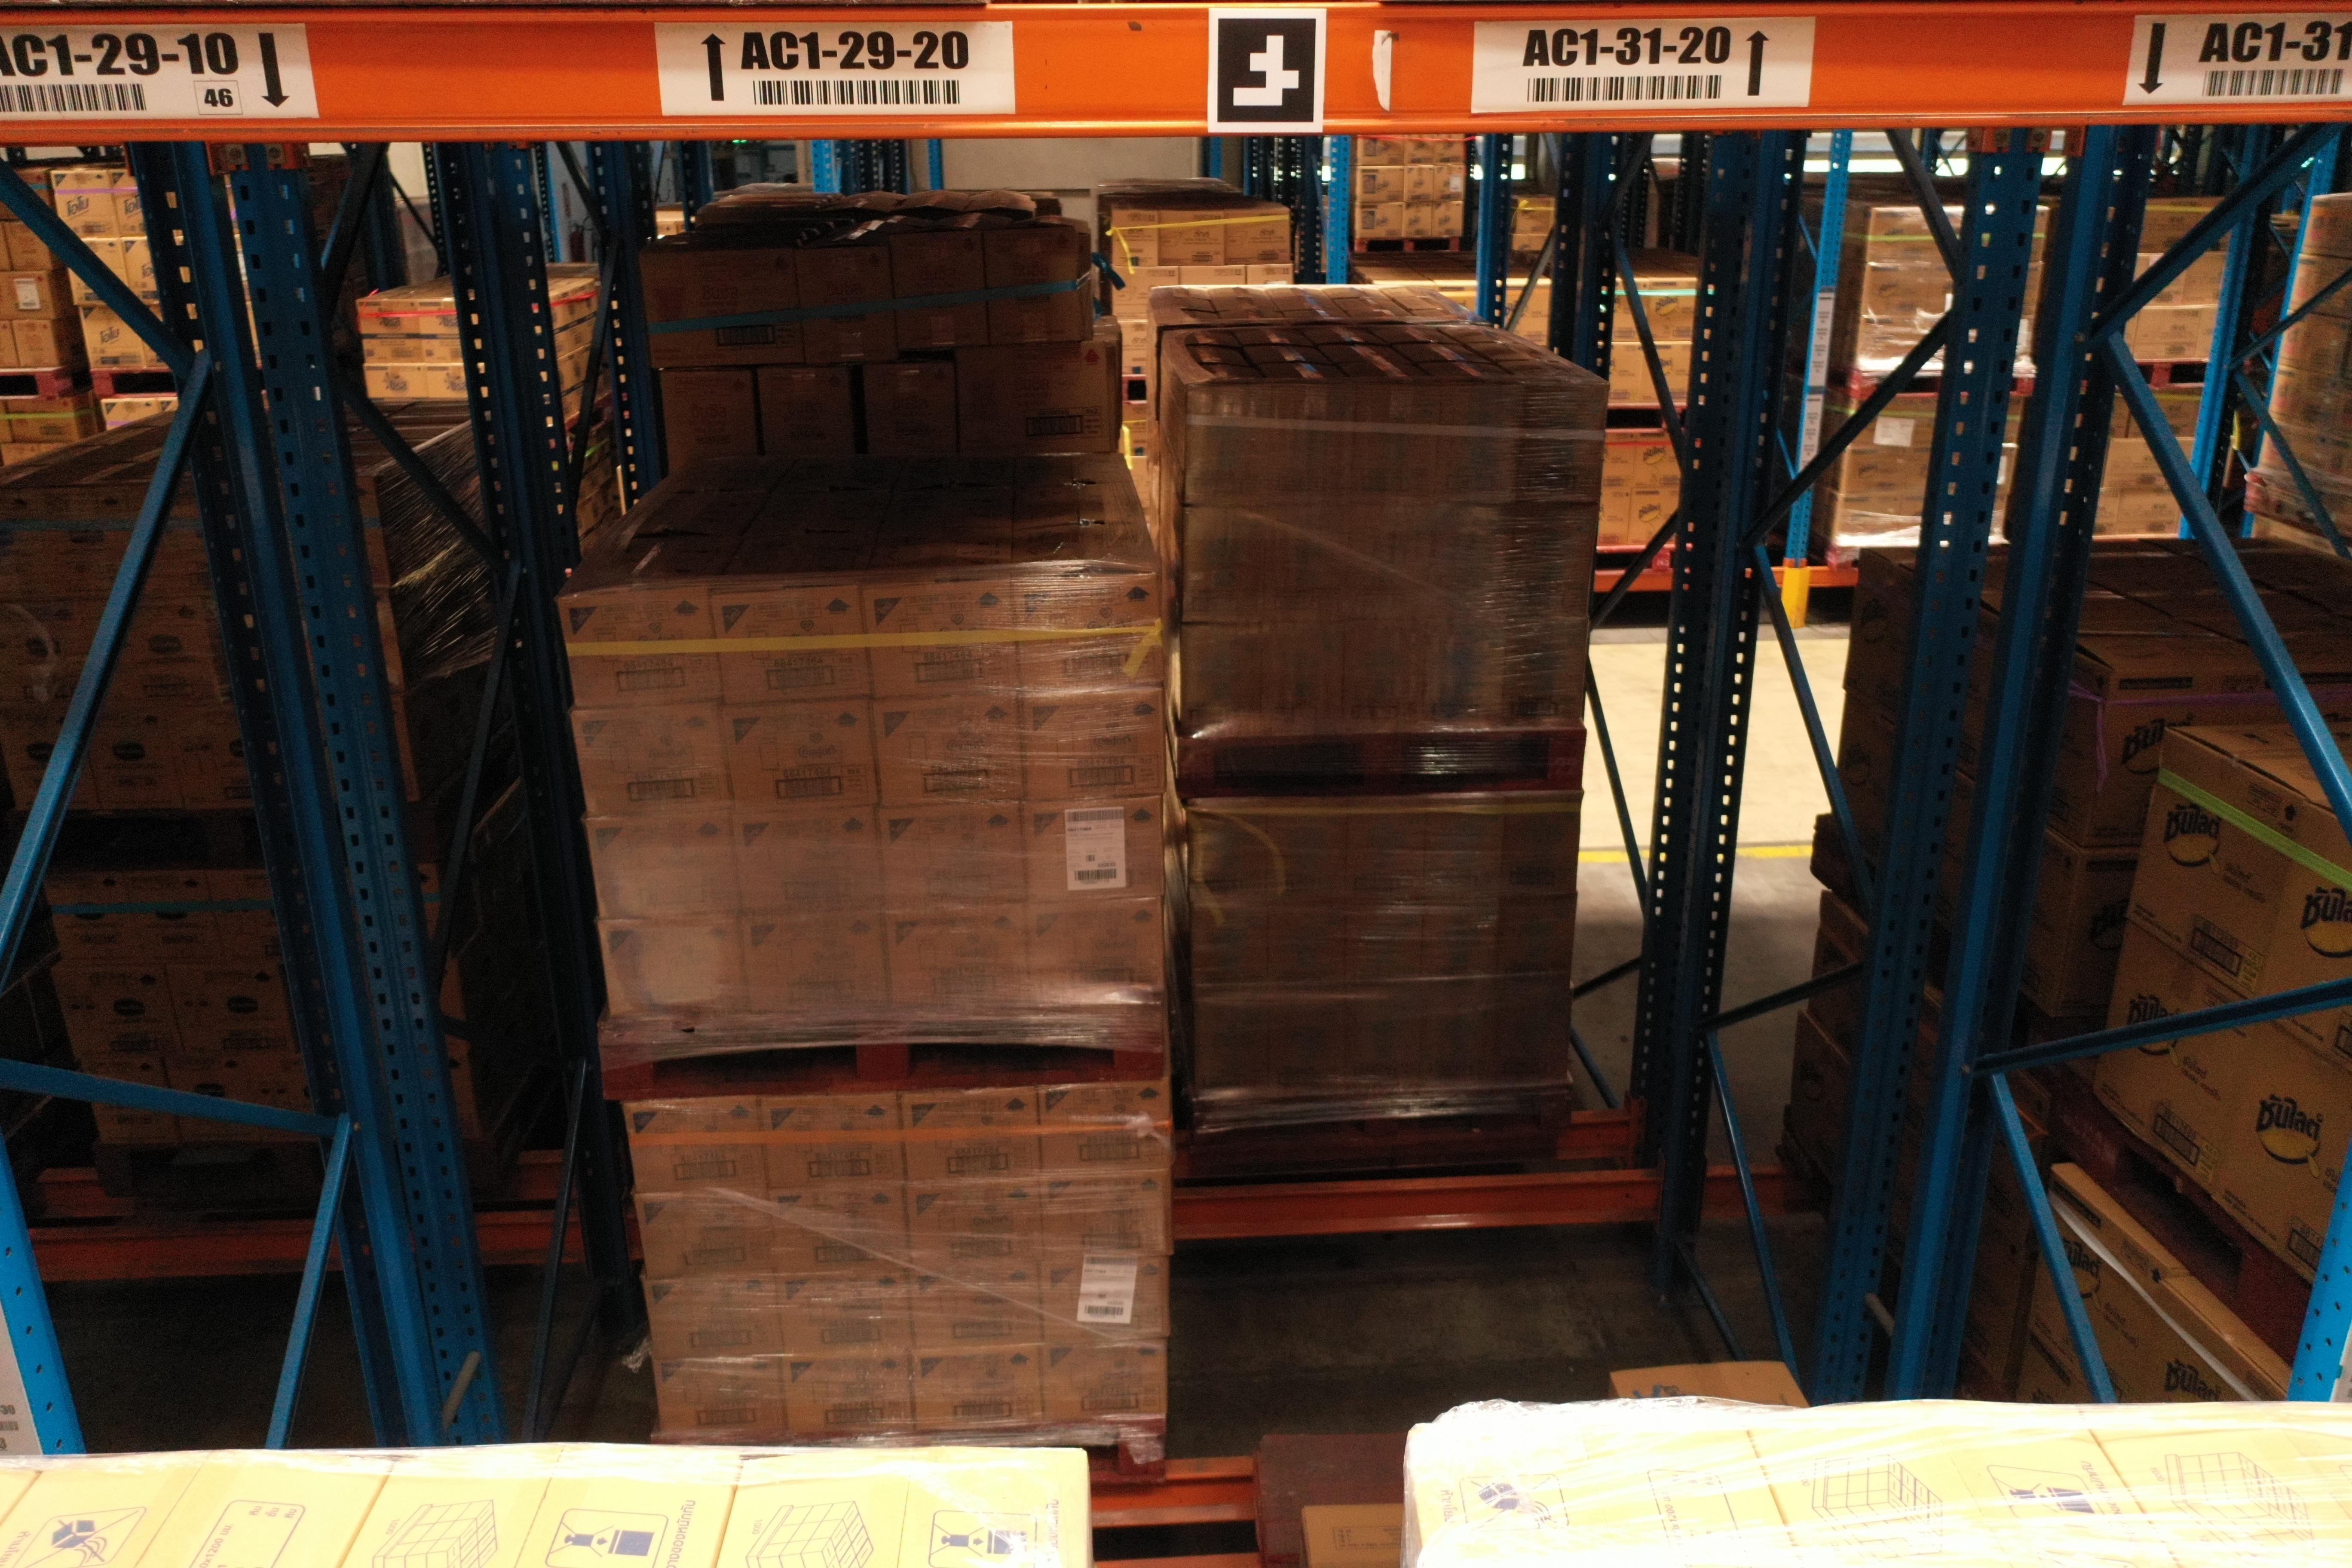2: (637, 248, 808, 367), (959, 343, 1120, 455), (82, 595, 220, 703), (56, 966, 187, 1060), (985, 233, 1094, 346), (166, 962, 296, 1057), (892, 229, 990, 350), (1349, 381, 1442, 507), (1183, 385, 1276, 509), (1433, 381, 1526, 506), (0, 602, 101, 714), (1270, 381, 1360, 507), (40, 486, 138, 600), (801, 245, 898, 360), (1517, 383, 1610, 502), (82, 703, 184, 810), (1428, 502, 1517, 623), (1263, 504, 1351, 626), (661, 364, 761, 471), (1346, 504, 1435, 623), (121, 486, 215, 598), (0, 709, 101, 810), (1183, 506, 1267, 625), (1514, 504, 1598, 623), (761, 364, 868, 457), (44, 875, 143, 968), (126, 870, 224, 962), (168, 703, 255, 807), (1269, 794, 1349, 906), (1346, 794, 1426, 905), (1260, 623, 1346, 726), (1188, 798, 1269, 906), (868, 362, 959, 457), (1181, 625, 1262, 731), (163, 1057, 261, 1144), (1426, 793, 1505, 901), (1498, 793, 1580, 896), (1503, 623, 1589, 719), (1424, 621, 1508, 719), (1344, 625, 1426, 724), (82, 1060, 178, 1144), (1498, 896, 1577, 996), (1344, 905, 1424, 999), (1192, 905, 1270, 1001), (1267, 906, 1346, 1003), (1421, 901, 1500, 996), (206, 870, 285, 962), (1195, 1001, 1269, 1099), (1494, 990, 1573, 1081), (1344, 996, 1421, 1087), (1269, 1001, 1344, 1092), (1419, 999, 1498, 1085), (0, 485, 56, 602), (240, 1055, 318, 1137)
box: (560, 584, 724, 710), (572, 702, 735, 821), (710, 584, 873, 702), (724, 700, 880, 821), (864, 581, 1022, 698), (870, 696, 1025, 808), (586, 810, 742, 922), (1020, 684, 1165, 803), (1015, 576, 1162, 693), (740, 910, 894, 1020), (884, 903, 1034, 1015), (875, 801, 1029, 908), (598, 913, 752, 1018), (733, 812, 882, 919), (1024, 796, 1164, 905), (1029, 899, 1164, 1006), (626, 1095, 770, 1195), (898, 1090, 1043, 1188), (761, 1095, 906, 1192), (905, 1183, 1046, 1274), (770, 1186, 908, 1279), (1039, 1176, 1174, 1269), (640, 1190, 777, 1281), (1038, 1085, 1169, 1179), (1043, 1262, 1174, 1353), (910, 1267, 1045, 1354), (646, 1279, 782, 1363), (780, 1353, 915, 1437), (1041, 1340, 1169, 1424), (915, 1349, 1045, 1431), (775, 1276, 913, 1353), (656, 1360, 787, 1438)
